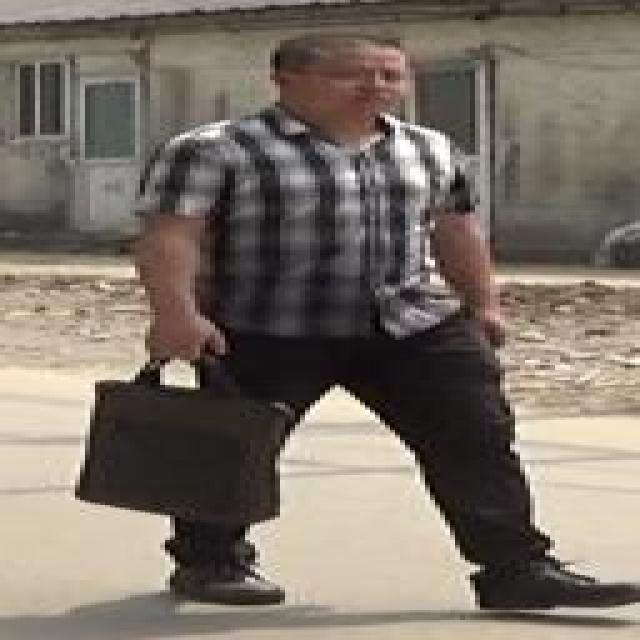adult: (113, 25, 615, 638)
